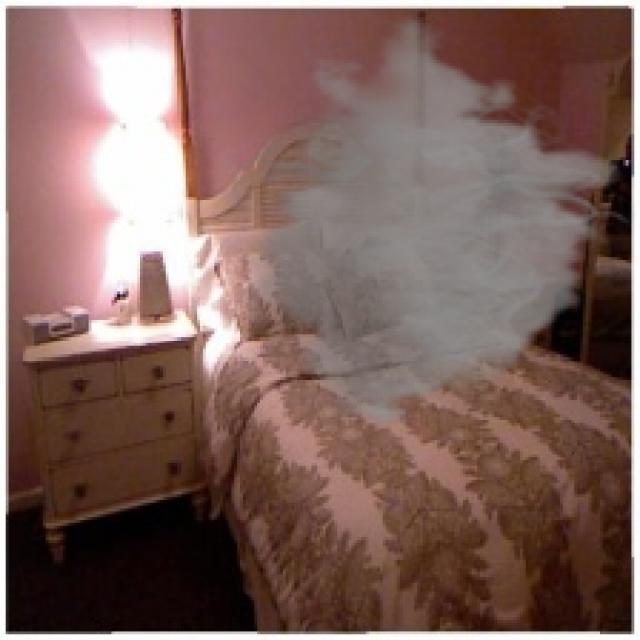smoke: (212, 14, 637, 429)
